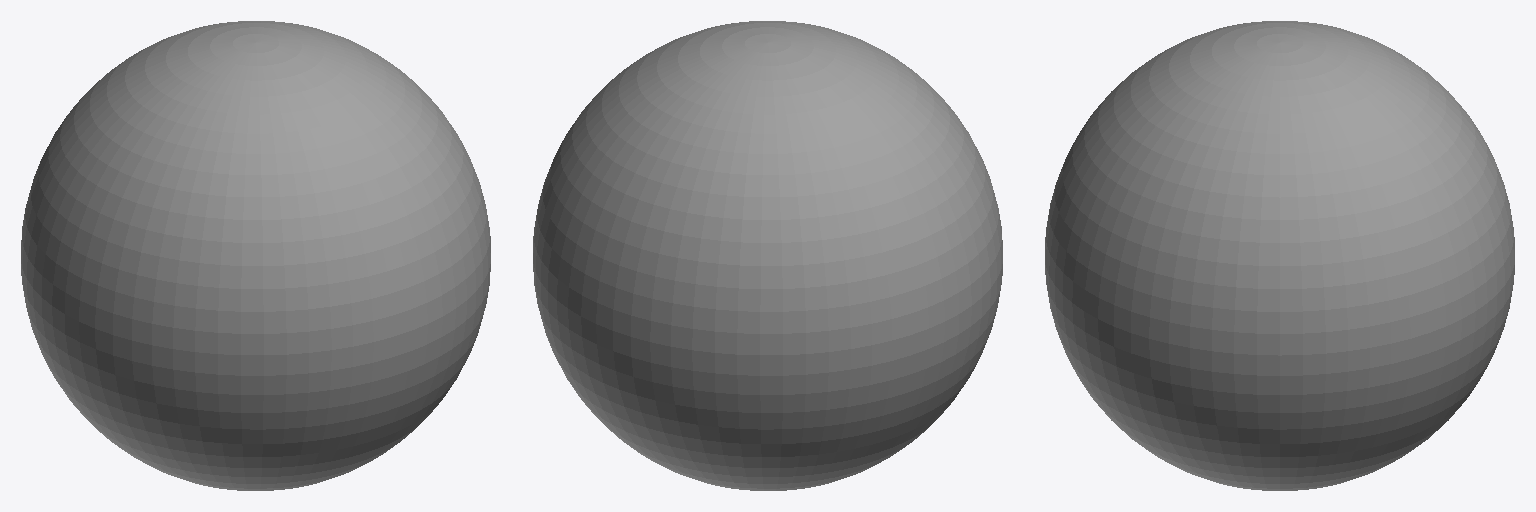
File: ssphere.obj
3 renders of one model, left to right at view 1: azimuth 30°, elevation 25°; view 2: azimuth 150°, elevation 25°; view 3: azimuth 270°, elevation 25°, orthographic.
Parts seen in each view (by area): view 1: Sphere_Sphere.003; view 2: Sphere_Sphere.003; view 3: Sphere_Sphere.003.
Part boxes in pixels (bbox=[...]): Sphere_Sphere.003: bbox=[21, 21, 490, 490]; Sphere_Sphere.003: bbox=[533, 21, 1002, 490]; Sphere_Sphere.003: bbox=[1045, 21, 1514, 490].
Size of the model in its own units: 2 by 2 by 2.